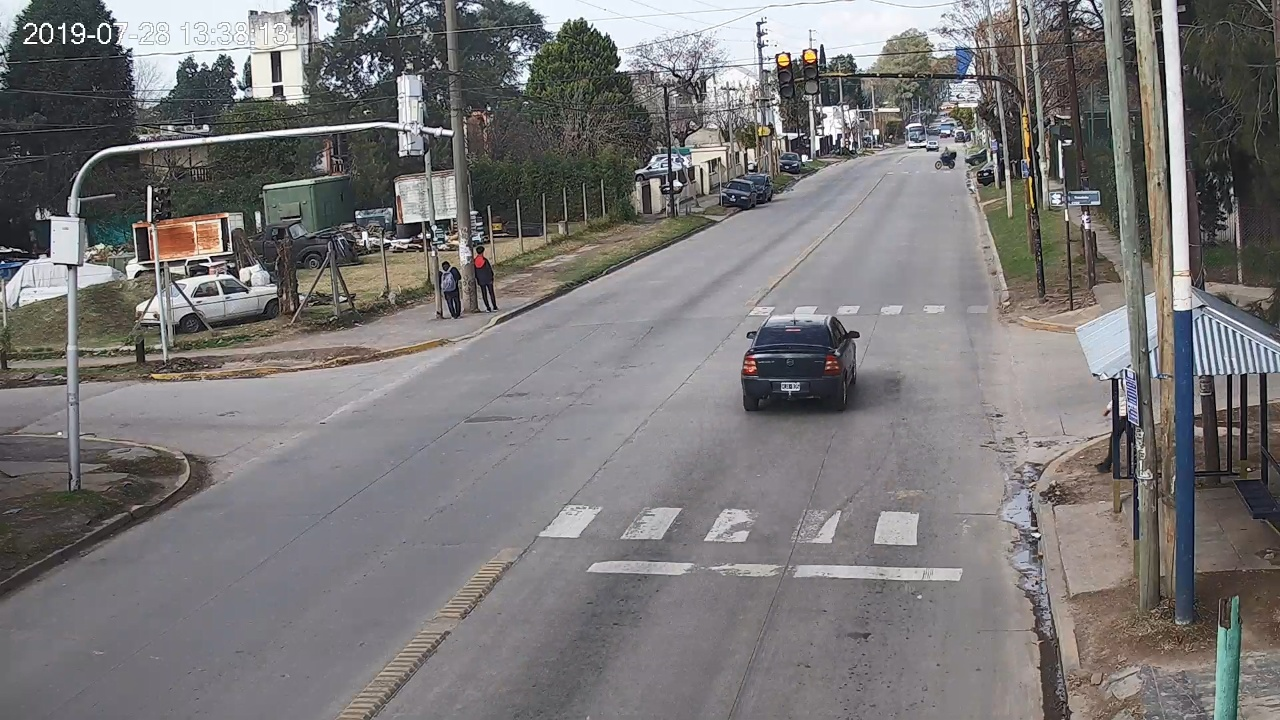car: (741, 314, 860, 411)
traffic light: (776, 53, 794, 98), (803, 50, 819, 94)
